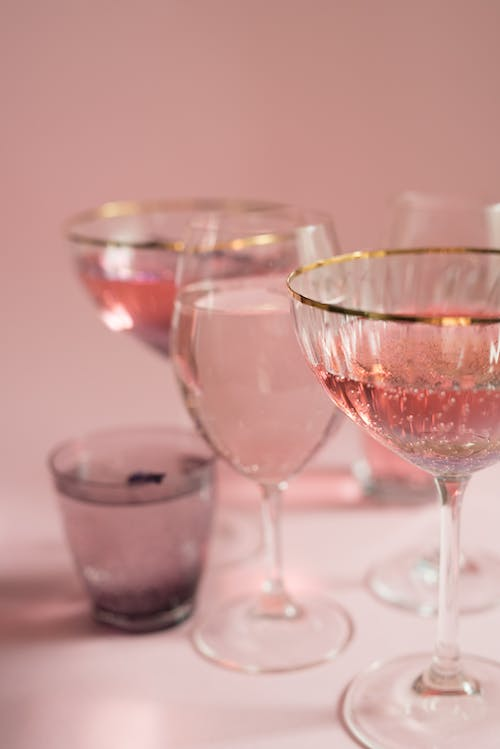alcohol: (285, 245, 500, 749), (168, 207, 356, 675), (46, 423, 224, 636), (60, 198, 292, 359)
